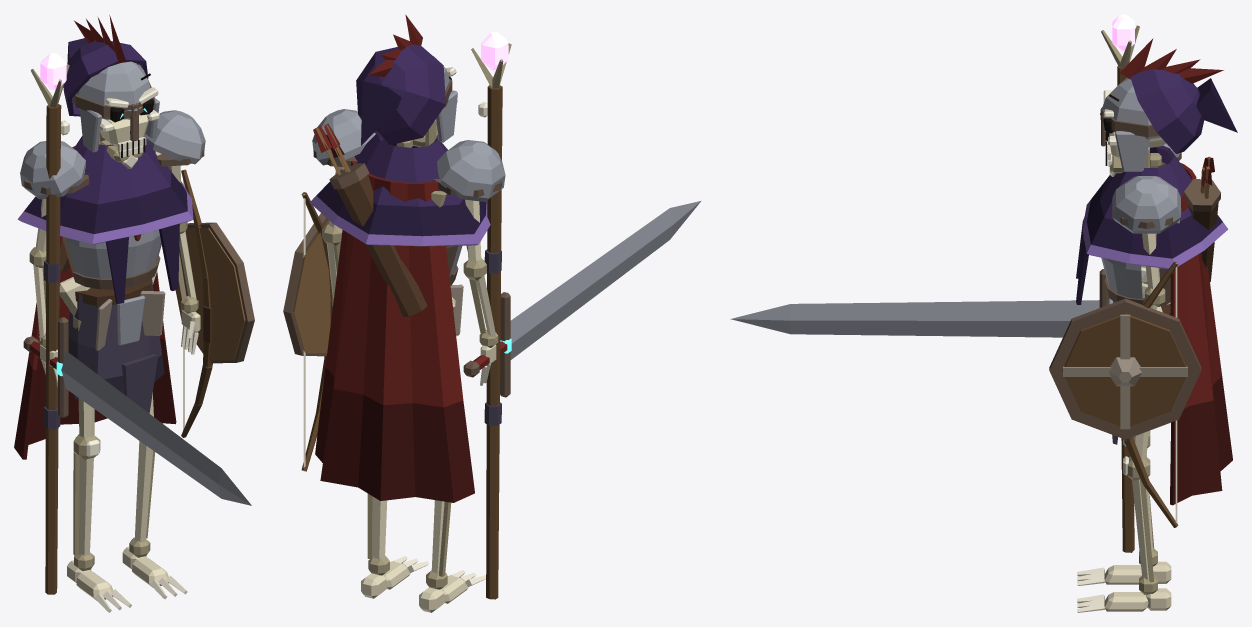
The model's file is skeleton.glb.
3 renders of one model, left to right at view 1: azimuth 30°, elevation 25°; view 2: azimuth 150°, elevation 25°; view 3: azimuth 270°, elevation 25°, orthographic. The views are drawn at different scales.
Visible parts, largest first — view 1: Mantle, Staff, GreatswordBlade, Shield, ArmorCape, Rags, ArmorChest, ArmorPauldron-1, Hood, Helm, ArmorPauldron1, ShieldRim (+27 smaller); view 2: ArmorCape, Mantle, GreatswordBlade, Staff, Hood, Shield, Quiver, ArmorPauldron-1, ArmorPauldron1, HoodTail, ShieldRim, GreatswordGuard (+5 smaller); view 3: GreatswordBlade, ArmorCape, ShieldFace, Mantle, ShieldRim, Hood, ArmorPauldron1, Helm, ArmorChest, Staff, HelmCheek1, HoodTail (+10 smaller).
Boxes of the visible parts, left/top/right/bottom form: Mantle: left=17, top=133, right=193, bottom=244; Staff: left=45, top=104, right=61, bottom=594; GreatswordBlade: left=61, top=350, right=221, bottom=498; Shield: left=175, top=228, right=245, bottom=360; ArmorCape: left=14, top=146, right=176, bottom=459; Rags: left=68, top=278, right=164, bottom=394; ArmorChest: left=67, top=229, right=161, bottom=278; ArmorPauldron-1: left=20, top=141, right=85, bottom=199; Hood: left=63, top=40, right=148, bottom=116; Helm: left=77, top=61, right=150, bottom=119; ArmorPauldron1: left=144, top=110, right=205, bottom=164; ShieldRim: left=187, top=222, right=254, bottom=363; ArmorCape: left=315, top=161, right=474, bottom=502; Mantle: left=310, top=134, right=490, bottom=246; GreatswordBlade: left=510, top=208, right=673, bottom=359; Staff: left=486, top=85, right=502, bottom=599; Hood: left=356, top=44, right=445, bottom=145; Shield: left=293, top=219, right=330, bottom=353; Quiver: left=336, top=174, right=427, bottom=316; ArmorPauldron-1: left=437, top=140, right=505, bottom=201; ArmorPauldron1: left=312, top=109, right=375, bottom=165; HoodTail: left=361, top=81, right=401, bottom=145; ShieldRim: left=283, top=213, right=327, bottom=356; GreatswordGuard: left=500, top=292, right=510, bottom=397; GreatswordBlade: left=790, top=300, right=1099, bottom=337; ArmorCape: left=1170, top=163, right=1232, bottom=505; ShieldFace: left=1062, top=313, right=1188, bottom=426; Mantle: left=1082, top=146, right=1228, bottom=269; ShieldRim: left=1049, top=298, right=1201, bottom=439; Hood: left=1130, top=69, right=1204, bottom=153; ArmorPauldron1: left=1112, top=176, right=1180, bottom=233; Helm: left=1100, top=77, right=1160, bottom=139; ArmorChest: left=1101, top=257, right=1142, bottom=298; Staff: left=1117, top=66, right=1134, bottom=552; HelmCheek1: left=1115, top=131, right=1150, bottom=171; HoodTail: left=1196, top=78, right=1237, bottom=132.
Size of the model in its own units: 0.658 by 1.82 by 1.5.
